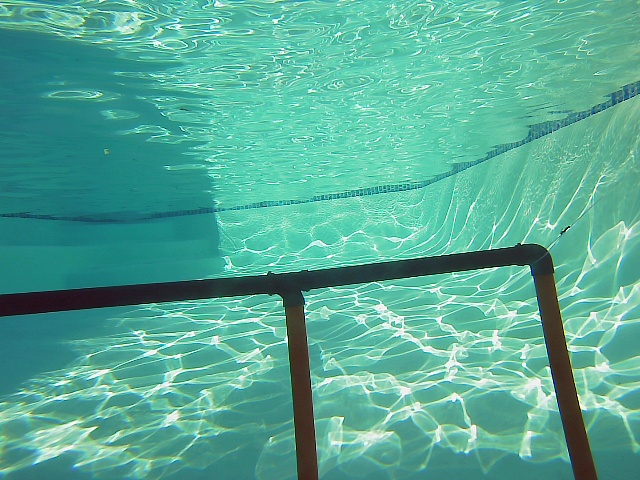Gate: (527, 269, 602, 480), (281, 297, 329, 480)
